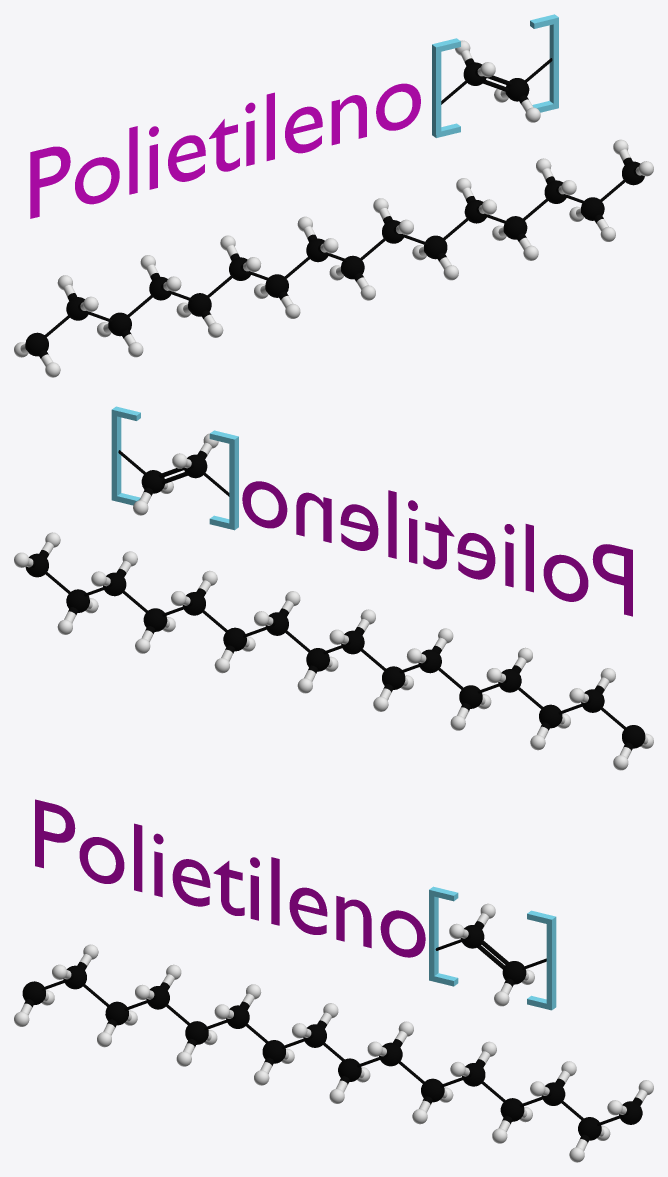
The model's file is polietileno.glb.
3 views of the same model, one above another, from view 1: azimuth 30°, elevation 25°; view 2: azimuth 150°, elevation 25°; view 3: azimuth 330°, elevation 25° (orthographic).
Parts seen in each view (by area): view 1: Text, Cube.001, Cube.002; view 2: Text, Cube.002, Cube.001; view 3: Text, Cube.002, Cube.001.
Boxes of the visible parts, x1=… form: Text: x1=30, y1=83, x2=420, y2=218; Cube.001: x1=432, y1=38, x2=460, y2=137; Cube.002: x1=530, y1=14, x2=558, y2=112; Text: x1=242, y1=481, x2=632, y2=616; Cube.002: x1=111, y1=406, x2=140, y2=505; Cube.001: x1=209, y1=430, x2=238, y2=530; Text: x1=35, y1=799, x2=425, y2=957; Cube.002: x1=527, y1=910, x2=556, y2=1010; Cube.001: x1=429, y1=886, x2=458, y2=986.
Bounding box in the file's own units: 233 × 81.02 × 23.66.
